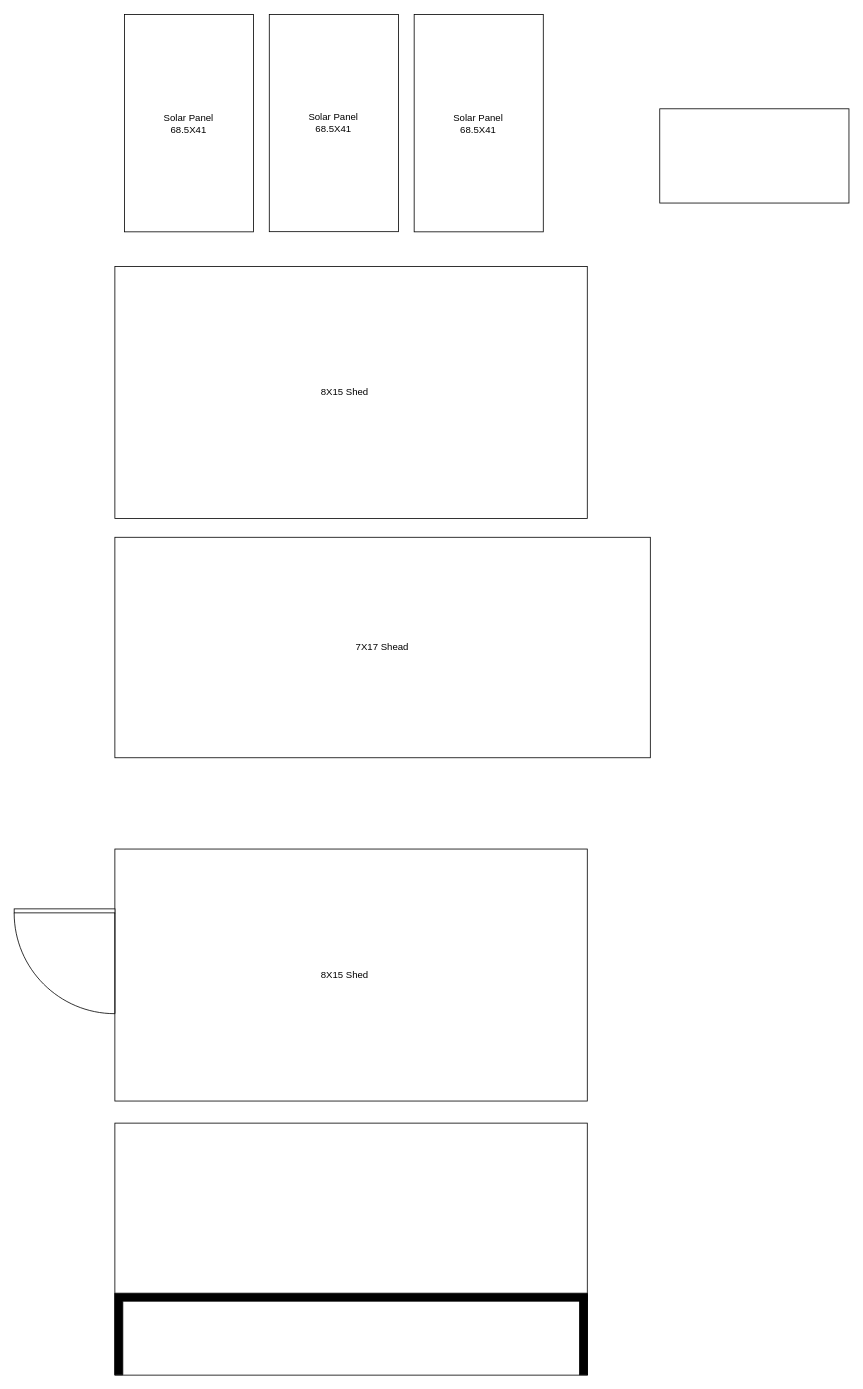
This 863x1389 diagram has some shape labels left out. The shapes that lost their labels are listed below. From the top down, each one's box as (x1, y1, x2, y2) in pixels, then its label:
(659, 108, 849, 203): Two Bikes
(114, 1122, 587, 1375): Front
